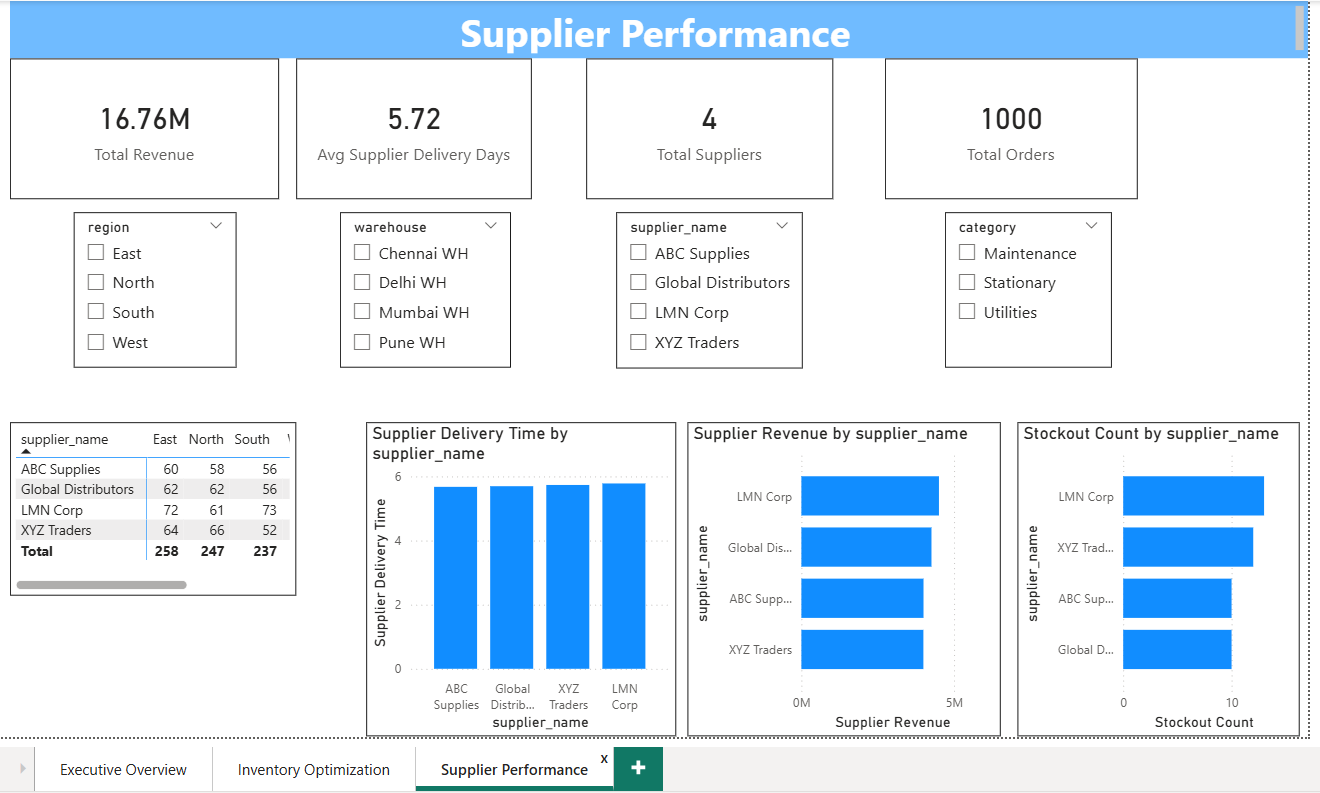

The dashboard page shown, as its layout file describes it:
{"tool":"powerbi","page":{"name":"Supplier Performance","canvas":[1280,720],"ordinal":2},"visuals":[{"type":"textbox","box":[9.6,0,1270.7,56.3],"z":0},{"type":"barChart","fields":{"Category":["supply_chain_cleaned.supplier_name"],"Y":["supply_chain_cleaned.Supplier Revenue"]},"box":[672.4,411.7,306,307.4],"z":1000},{"type":"columnChart","fields":{"Category":["supply_chain_cleaned.supplier_name"],"Y":["supply_chain_cleaned.Supplier Delivery Time"]},"box":[358.1,411.7,303.3,307.4],"z":2000},{"type":"pivotTable","fields":{"Rows":["supply_chain_cleaned.supplier_name"],"Columns":["supply_chain_cleaned.region"],"Values":["supply_chain_cleaned.Total Orders"]},"box":[9.8,412.1,280,170],"z":3000},{"type":"slicer","fields":{"Values":["supply_chain_cleaned.region"]},"box":[72.7,207.2,159.2,152.3],"z":4000},{"type":"slicer","fields":{"Values":["supply_chain_cleaned.warehouse"]},"box":[332.1,207.2,167.4,152.3],"z":5000},{"type":"slicer","fields":{"Values":["supply_chain_cleaned.supplier_name"]},"box":[602.9,206.7,182.2,152.9],"z":6000},{"type":"slicer","fields":{"Values":["supply_chain_cleaned.category"]},"box":[924.9,207.2,163.3,152.3],"z":7000},{"type":"card","fields":{"Values":["supply_chain_cleaned.Total Revenue"]},"box":[9.6,56.3,263.5,137.2],"z":8000},{"type":"card","fields":{"Values":["supply_chain_cleaned.Avg Supplier Delivery Days"]},"box":[289.5,56.3,230.5,137.2],"z":9000},{"type":"card","fields":{"Values":["supply_chain_cleaned.Total Suppliers"]},"box":[573.6,56.3,241.5,137.2],"z":10000},{"type":"card","fields":{"Values":["supply_chain_cleaned.Total Orders"]},"box":[865.9,56.3,247,137.2],"z":11000},{"type":"barChart","fields":{"Category":["supply_chain_cleaned.supplier_name"],"Y":["supply_chain_cleaned.Stockout Count"]},"box":[994.9,411.7,275.8,307.4],"z":12000}]}

Visuals, with their boxes in screenshot pixels (x1, y1, x2, y2):
textbox: bbox(10, 0, 1302, 57)
barChart - supply_chain_cleaned.supplier_name x supply_chain_cleaned.Supplier Revenue: bbox(684, 419, 995, 731)
columnChart - supply_chain_cleaned.supplier_name x supply_chain_cleaned.Supplier Delivery Time: bbox(364, 419, 673, 731)
pivotTable - supply_chain_cleaned.supplier_name x supply_chain_cleaned.region: bbox(10, 419, 295, 592)
slicer - supply_chain_cleaned.region: bbox(74, 211, 236, 366)
slicer - supply_chain_cleaned.warehouse: bbox(338, 211, 508, 366)
slicer - supply_chain_cleaned.supplier_name: bbox(613, 210, 798, 366)
slicer - supply_chain_cleaned.category: bbox(941, 211, 1107, 366)
card - supply_chain_cleaned.Total Revenue: bbox(10, 57, 278, 197)
card - supply_chain_cleaned.Avg Supplier Delivery Days: bbox(294, 57, 529, 197)
card - supply_chain_cleaned.Total Suppliers: bbox(583, 57, 829, 197)
card - supply_chain_cleaned.Total Orders: bbox(881, 57, 1132, 197)
barChart - supply_chain_cleaned.supplier_name x supply_chain_cleaned.Stockout Count: bbox(1012, 419, 1292, 731)
